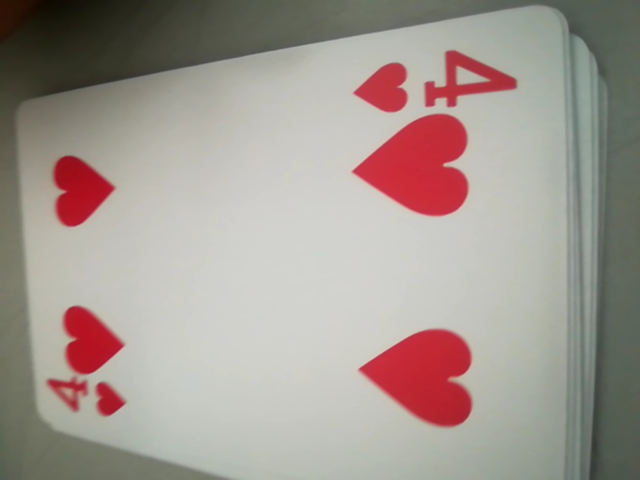hx 4: (349, 41, 527, 120), (34, 370, 132, 427)
